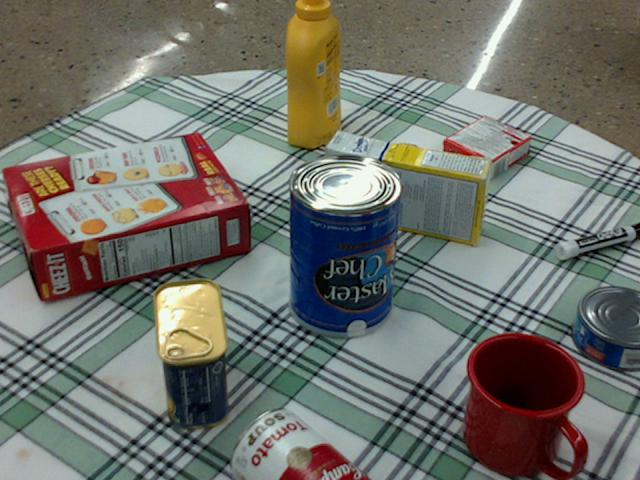cracker_box: (3, 133, 246, 300)
gelatin_box: (441, 116, 530, 180)
large_marker: (556, 222, 639, 258)
master_chef_can: (289, 153, 402, 336)
mug: (462, 333, 585, 476)
mustard_bottle: (285, 0, 339, 147)
potted_meat_can: (152, 278, 228, 428)
sugar_box: (323, 132, 492, 245)
tomato_soup_can: (230, 409, 366, 479)
tuna_fish_can: (572, 287, 639, 371)
